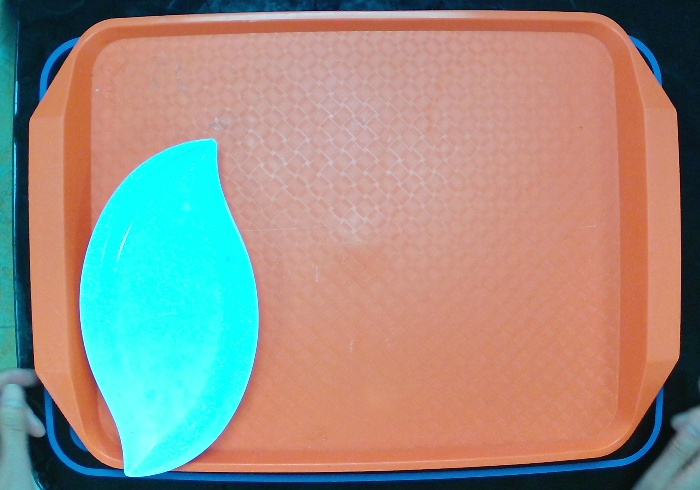RJxy-Jian_Jiao_Pan: (74, 130, 266, 482)
